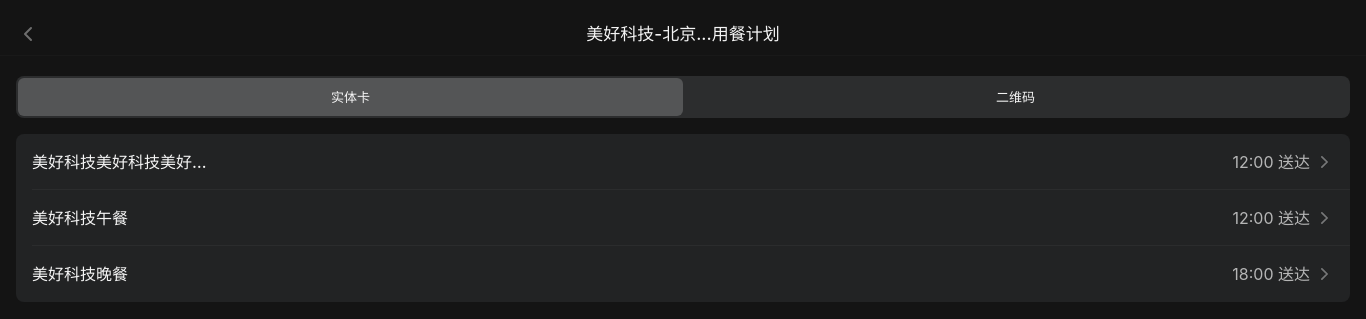
Test: MealPlanListView › switches to QR-code availability ranges
Click the button "二维码" at coordinates (1016, 97), box [683,78,1348,116]
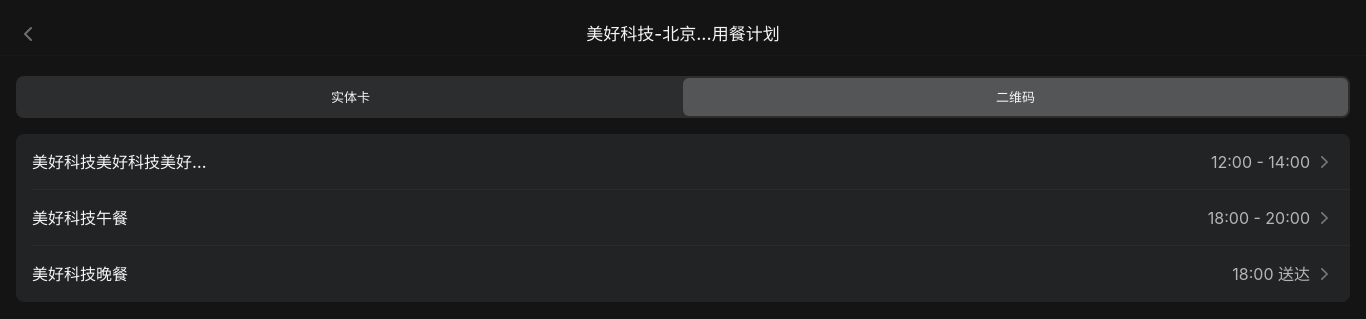
Expected: the text "12:00 - 14:00" is shown, [1211,151,1310,173]
Expected: the text "18:00 - 20:00" is shown, [1208,207,1310,229]
